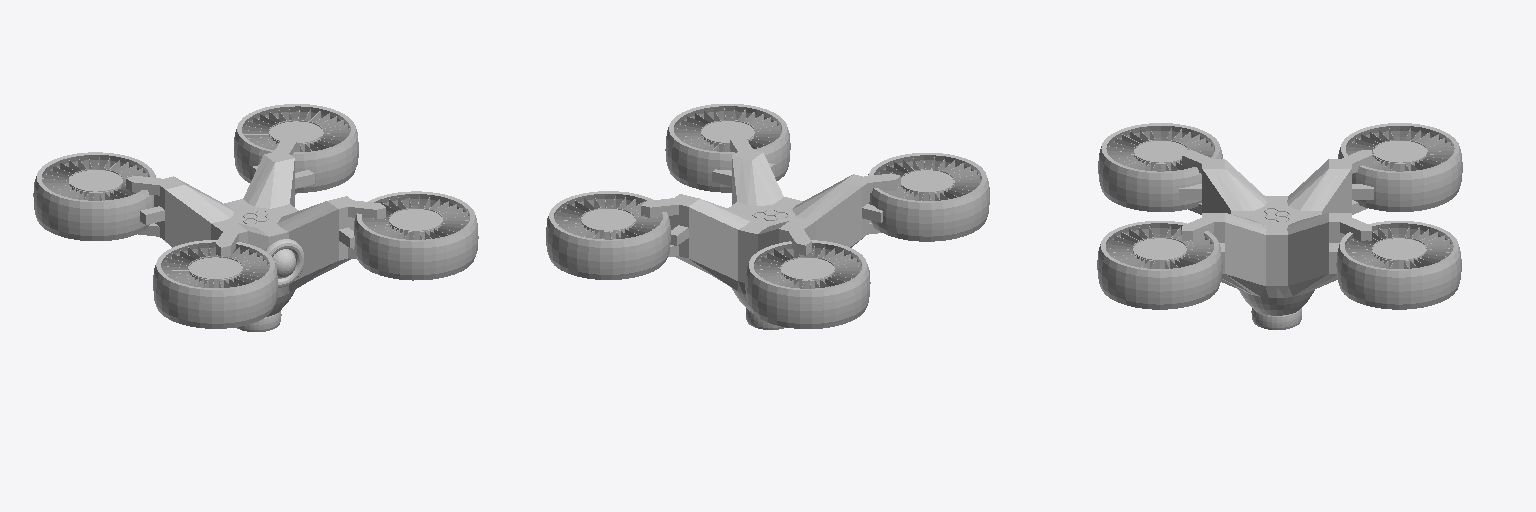
File: Drone.obj
3 renders of one model, left to right at view 1: azimuth 30°, elevation 25°; view 2: azimuth 150°, elevation 25°; view 3: azimuth 270°, elevation 25°, orthographic.
Visible parts, largest first — view 1: Main_Body_Cube; view 2: Main_Body_Cube; view 3: Main_Body_Cube.
Part boxes in pixels (x1,y1,x2,y2): Main_Body_Cube: (33, 104, 478, 331); Main_Body_Cube: (546, 104, 989, 329); Main_Body_Cube: (1097, 123, 1462, 329).
Bounding box in the file's own units: 7.83 × 3.13 × 8.03.